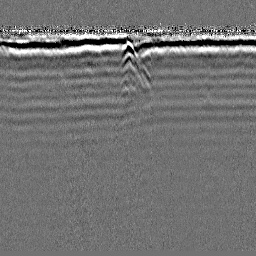cavity: (119, 40, 139, 61)
